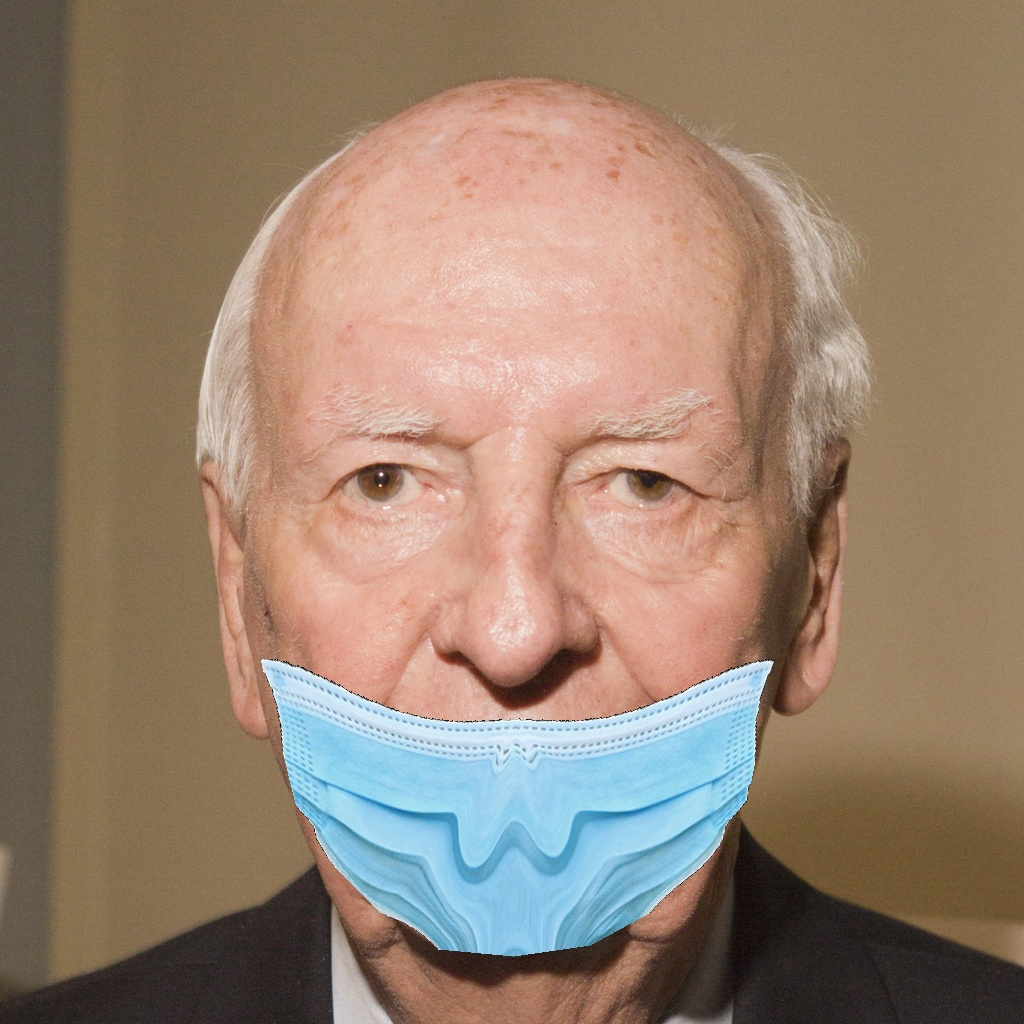mascarilla_mal_puesta: (222, 338, 827, 970)
